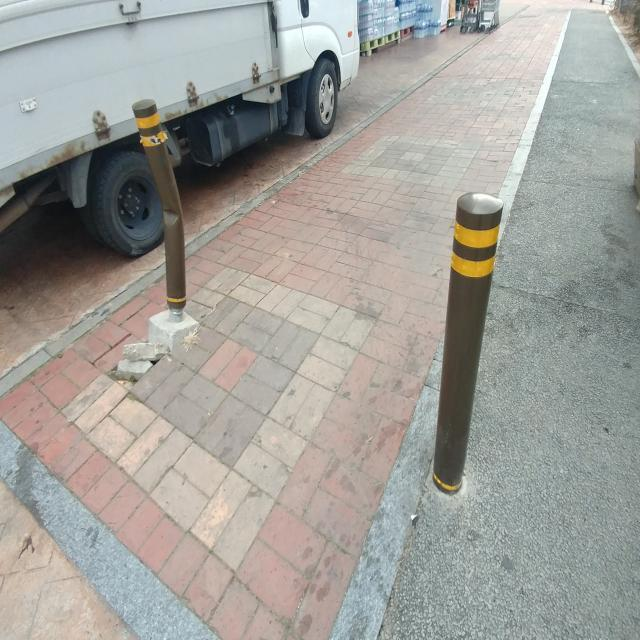pole: (420, 175, 512, 505), (132, 93, 188, 324)
